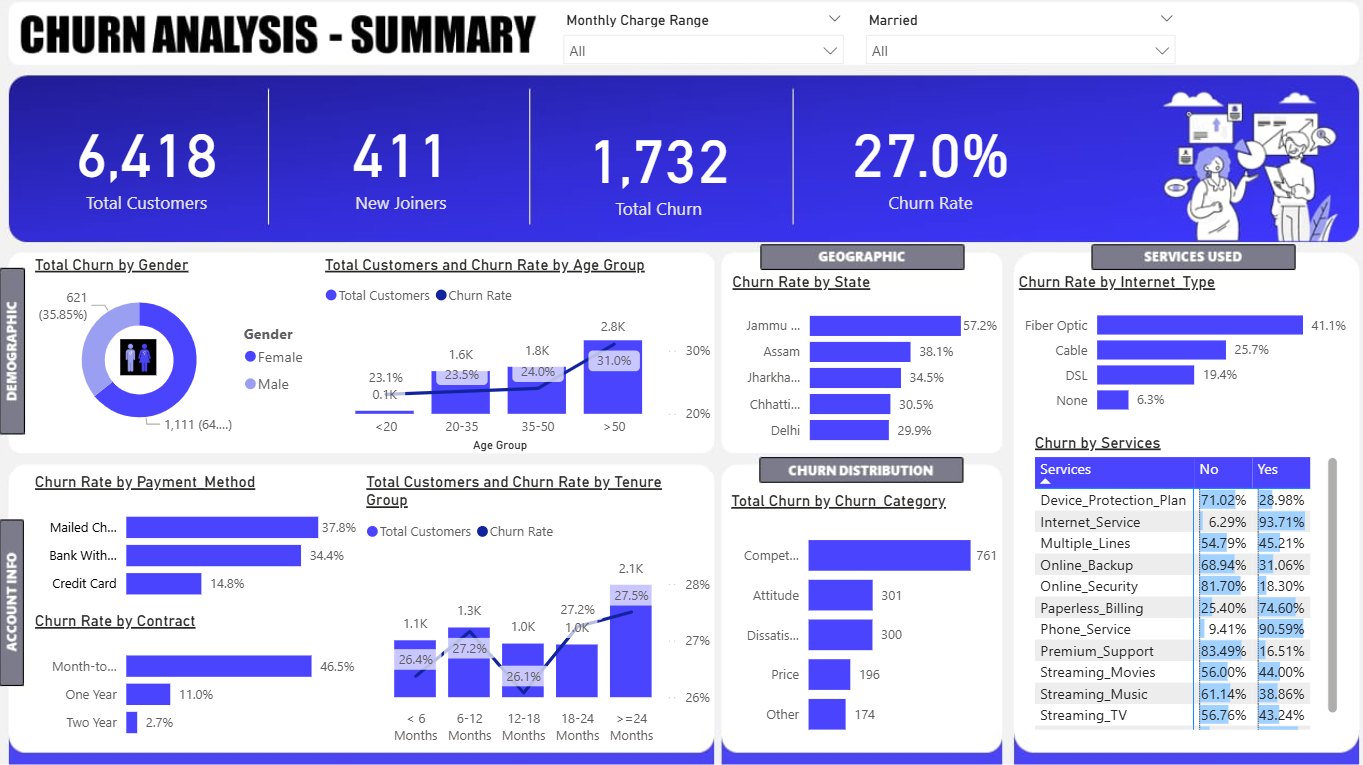

Layout of this report page (visuals, bound fields, positions):
{"tool":"powerbi","page":{"name":"Summary","canvas":[1280,720],"ordinal":0},"visuals":[{"type":"card","fields":{"Values":["tbl_Measures.Total Customers"]},"box":[21.2,72.5,238.8,163.8],"z":0},{"type":"card","fields":{"Values":["tbl_Measures.New Joiners"]},"box":[258.8,72.5,235,163.8],"z":1000},{"type":"card","fields":{"Values":["tbl_Measures.Total Churn"]},"box":[493.8,82.5,245,153.8],"z":2000},{"type":"card","fields":{"Values":["tbl_Measures.Churn Rate"]},"box":[738.8,72.5,262.5,163.8],"z":3000},{"type":"donutChart","fields":{"Category":["customer_data.Gender"],"Y":["tbl_Measures.Total Churn"]},"box":[30.8,240.8,270.5,177],"z":4000},{"type":"lineStackedColumnComboChart","fields":{"Category":["mapping_AgeGroup.Age Group"],"Y2":["tbl_Measures.Churn Rate"],"Y":["tbl_Measures.Total Customers"]},"box":[301.2,242.5,368.8,187.5],"z":5000},{"type":"clusteredBarChart","fields":{"Category":["customer_data.Payment_Method"],"Y":["tbl_Measures.Churn Rate"]},"box":[31.2,445,308.8,130],"z":6000},{"type":"clusteredBarChart","fields":{"Category":["customer_data.Contract"],"Y":["tbl_Measures.Churn Rate"]},"box":[31.2,575,308.8,130],"z":7000},{"type":"lineStackedColumnComboChart","fields":{"Y":["tbl_Measures.Total Customers"],"Category":["mapping_TenureGrp.Tenure Group"],"Y2":["tbl_Measures.Churn Rate"]},"box":[340,445,330,260],"z":8000},{"type":"clusteredBarChart","fields":{"Category":["customer_data.State"],"Y":["tbl_Measures.Churn Rate"]},"box":[680,258.8,256.2,171.2],"z":9000},{"type":"clusteredBarChart","fields":{"Y":["tbl_Measures.Total Churn"],"Category":["customer_data.Churn_Category"]},"box":[678.8,462.5,257.5,242.5],"z":10000},{"type":"clusteredBarChart","fields":{"Category":["customer_data.Internet_Type"],"Y":["tbl_Measures.Churn Rate"]},"box":[946.2,258.8,321.2,142.5],"z":11000},{"type":"pivotTable","title":"Churn by Services","fields":{"Rows":["Customer_Services.Services"],"Columns":["Customer_Services.Status"],"Values":["Sum(Customer_Services.Churn Status)"]},"box":[946.2,388.8,321.2,316.2],"z":12000},{"type":"slicer","fields":{"Values":["Customer_Services.Monthly Charge Status"]},"box":[517.4,11.6,268.6,60.5],"z":13000},{"type":"slicer","fields":{"Values":["Customer_Services.Married"]},"box":[786,11.6,293,60.5],"z":14000},{"type":"image","box":[89.1,316.7,77,42.9],"z":15000},{"type":"shape","box":[1079.1,11.6,167.4,55.8],"z":15001}]}

Visuals, with their boxes in screenshot pixels (x1, y1, x2, y2), scaled from the page's 1280x720 canvas onto the 1363x765 screenshot:
card - tbl_Measures.Total Customers: detection(23, 77, 277, 251)
card - tbl_Measures.New Joiners: detection(276, 77, 526, 251)
card - tbl_Measures.Total Churn: detection(526, 88, 787, 251)
card - tbl_Measures.Churn Rate: detection(787, 77, 1066, 251)
donutChart - customer_data.Gender x tbl_Measures.Total Churn: detection(33, 256, 321, 444)
lineStackedColumnComboChart - mapping_AgeGroup.Age Group x tbl_Measures.Churn Rate: detection(321, 258, 713, 457)
clusteredBarChart - customer_data.Payment_Method x tbl_Measures.Churn Rate: detection(33, 473, 362, 611)
clusteredBarChart - customer_data.Contract x tbl_Measures.Churn Rate: detection(33, 611, 362, 749)
lineStackedColumnComboChart - tbl_Measures.Total Customers x mapping_TenureGrp.Tenure Group: detection(362, 473, 713, 749)
clusteredBarChart - customer_data.State x tbl_Measures.Churn Rate: detection(724, 275, 997, 457)
clusteredBarChart - tbl_Measures.Total Churn x customer_data.Churn_Category: detection(723, 491, 997, 749)
clusteredBarChart - customer_data.Internet_Type x tbl_Measures.Churn Rate: detection(1008, 275, 1350, 426)
"Churn by Services" pivotTable: detection(1008, 413, 1350, 749)
slicer - Customer_Services.Monthly Charge Status: detection(551, 12, 837, 77)
slicer - Customer_Services.Married: detection(837, 12, 1149, 77)
image: detection(95, 336, 177, 382)
shape: detection(1149, 12, 1327, 72)
